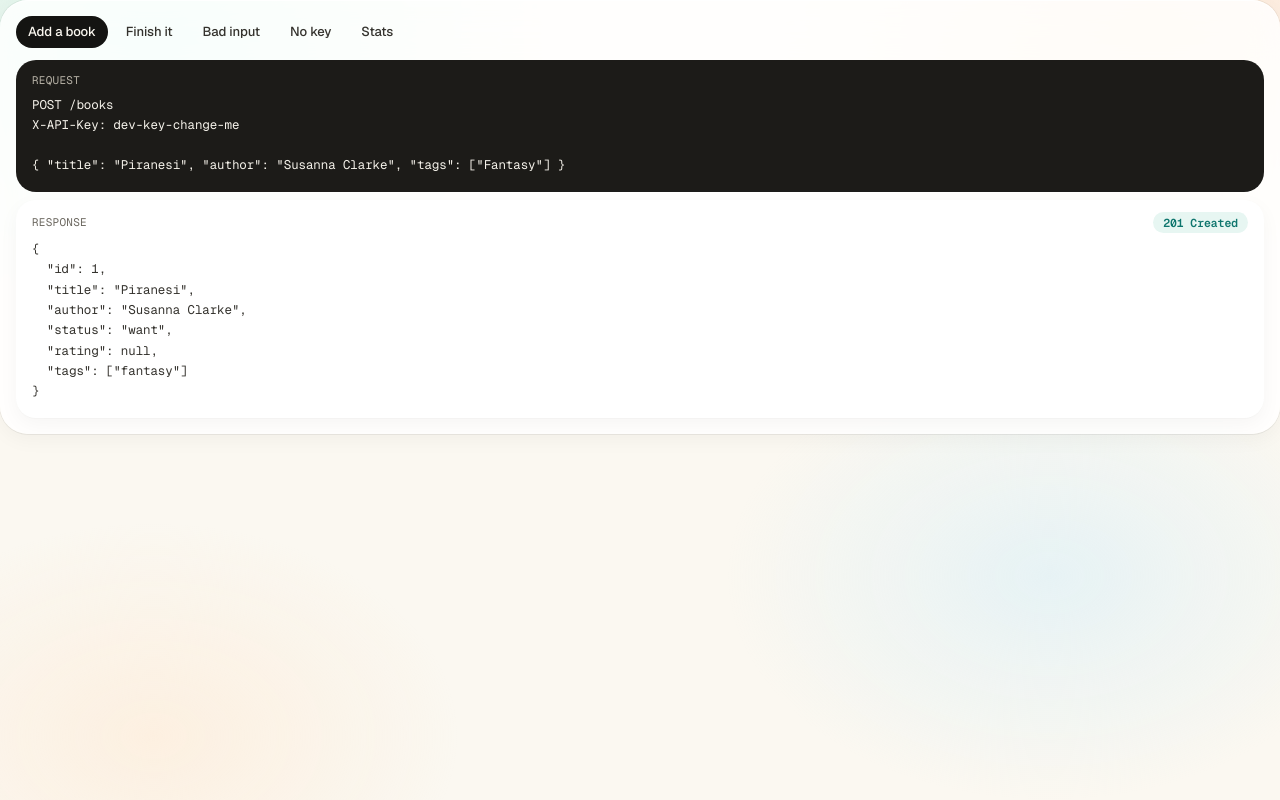
Test: ApiDemo › stops stepping once someone picks an example
Click the tab "No key" at (311, 32), box [278, 16, 343, 48]
Wait 20000 ms
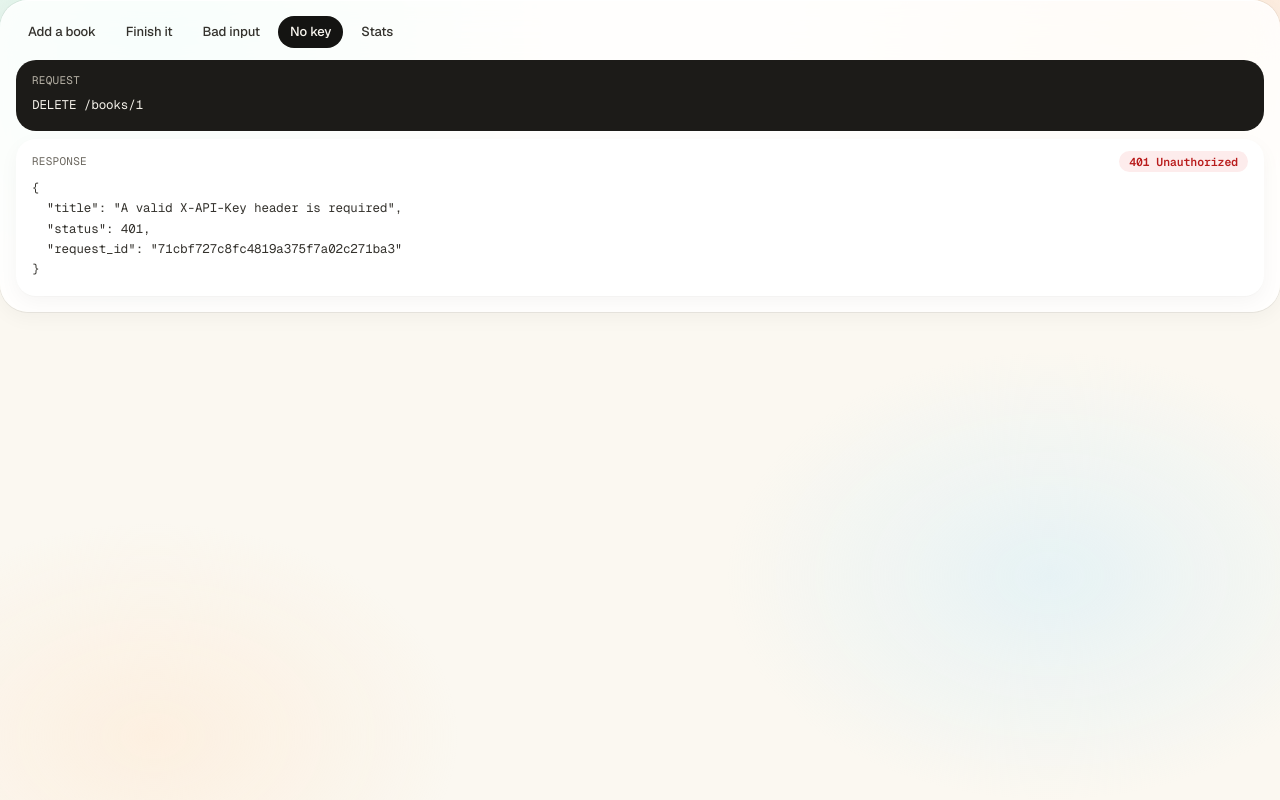
Now the text "401 Unauthorized" is shown, box [1119, 151, 1248, 172]
